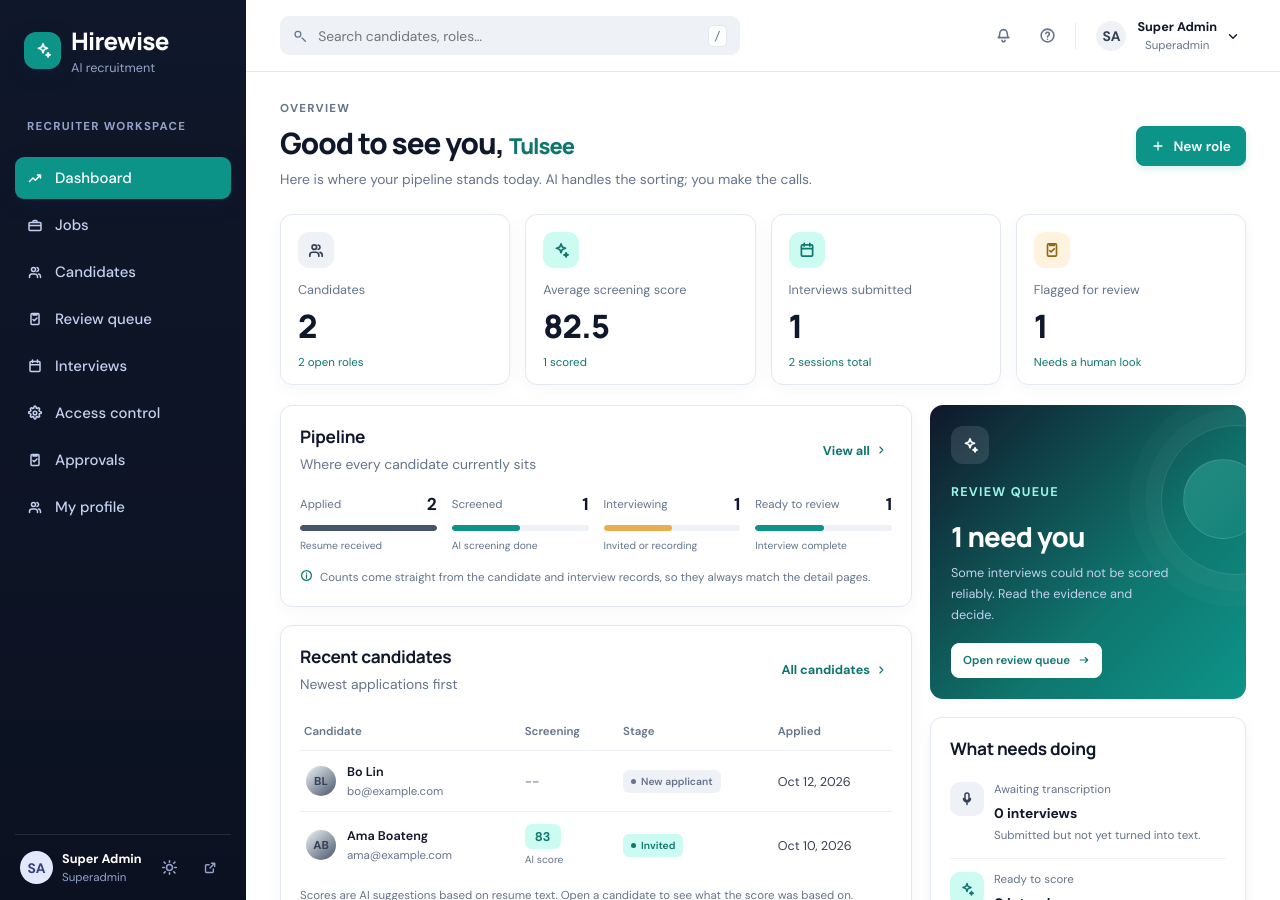
Test case: the shell's chrome › does not hijack / while typing in a field
Check: the navigation bar named "main navigation" is shown, box [0,0,246,899]
Click the search field named "search candidates and roles" at (507, 36), box [316,26,698,46]
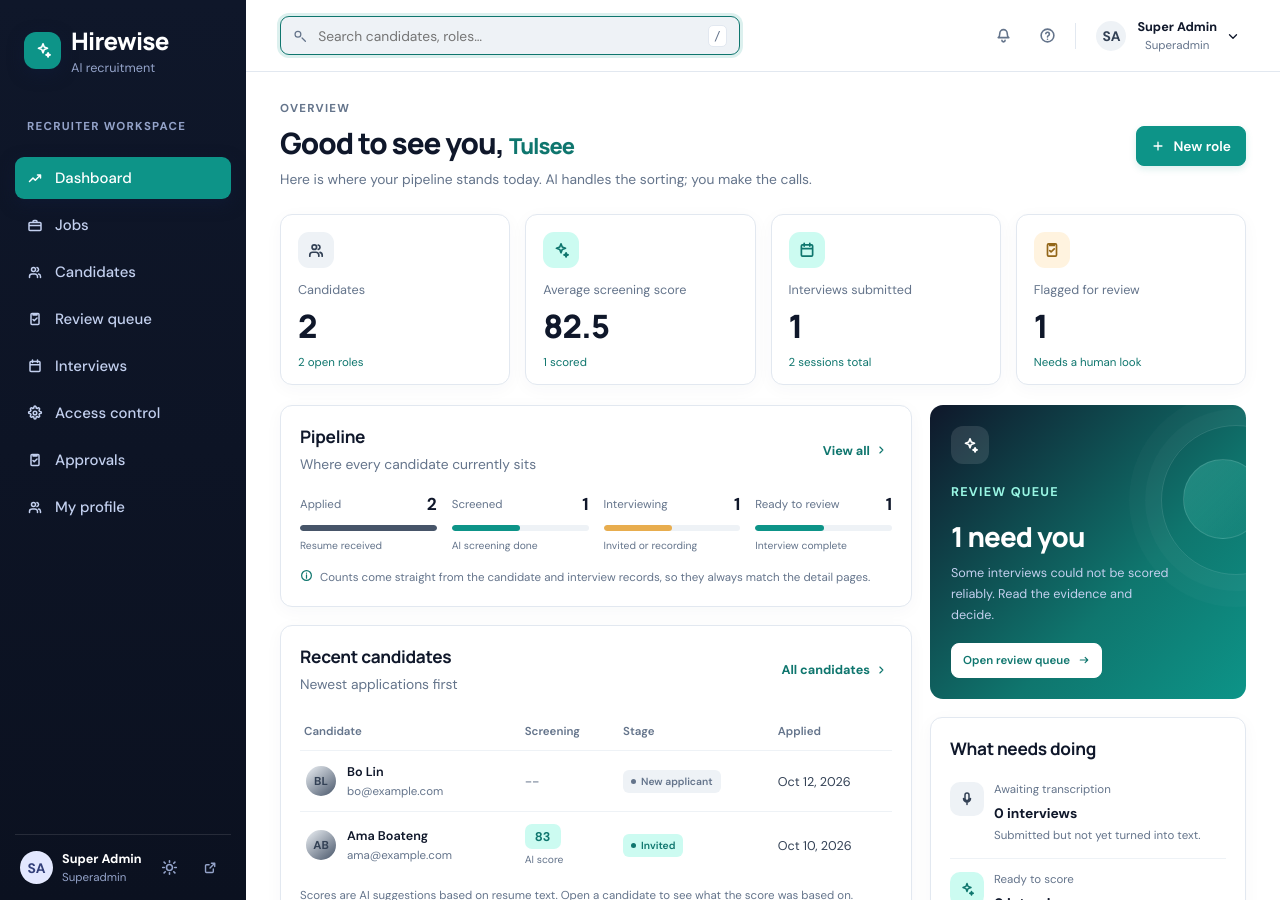
Type keys "a/b"
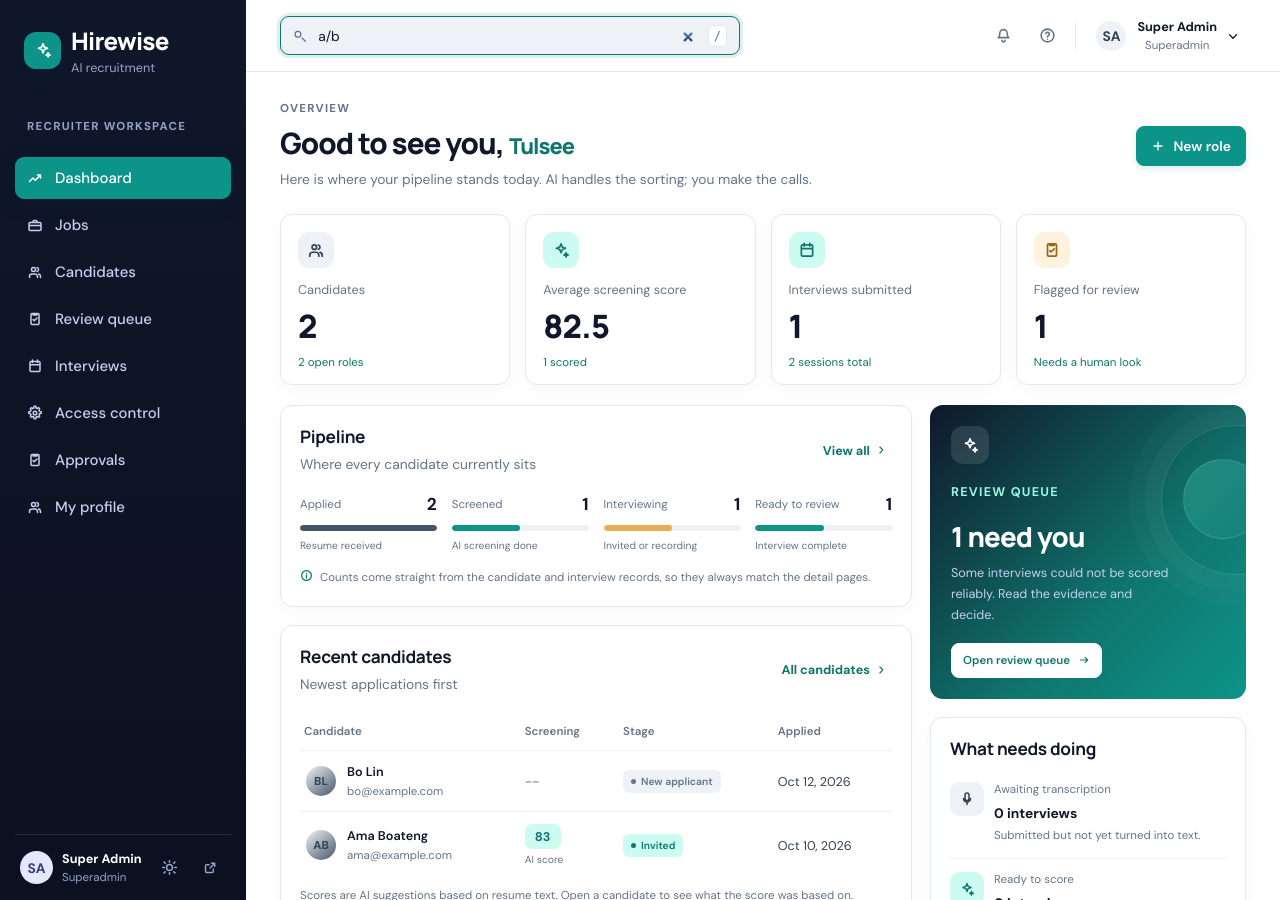
Check: the search field named "search candidates and roles" holds "a/b", box [316,26,698,46]
